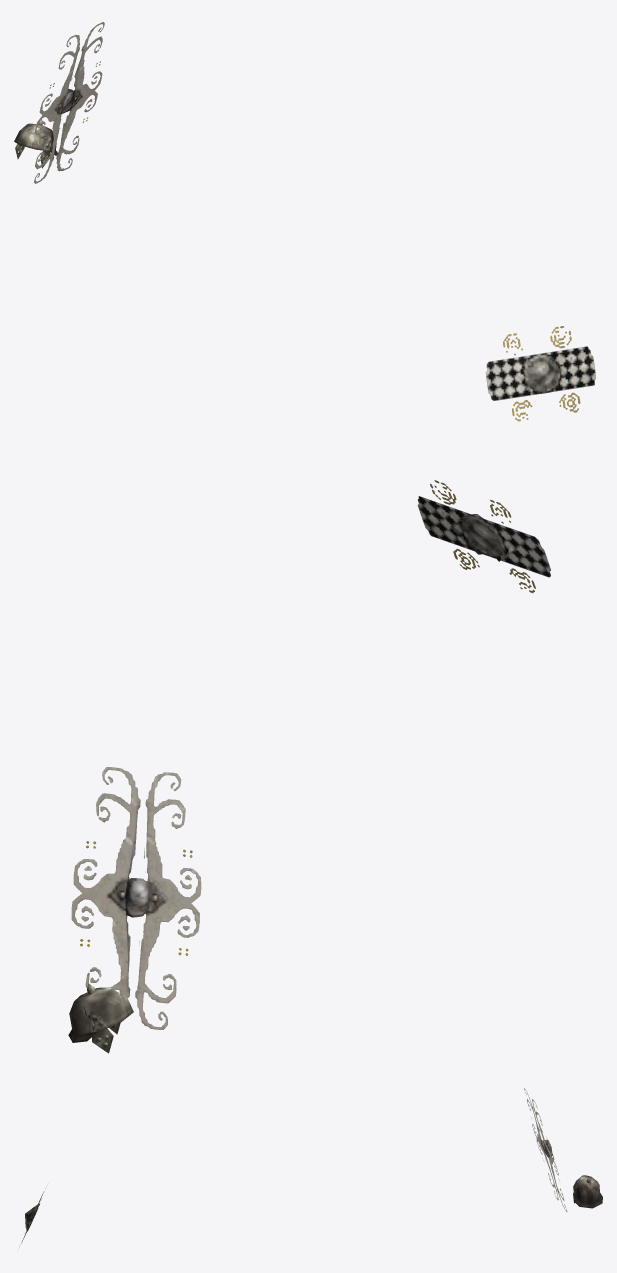
The model's file is celt_sb_shields.dae.
3 renders of one model, top to bottom at view 1: azimuth 30°, elevation 25°; view 2: azimuth 150°, elevation 25°; view 3: azimuth 270°, elevation 25°, orthographic. The views are drawn at different scales.
Visible parts, largest first — view 1: celt_helmet_9130-Pivot; view 2: celt_helmet_9130-Pivot; view 3: celt_helmet_9130-Pivot.
Part boxes in pixels (left/top/right/bottom): celt_helmet_9130-Pivot: left=14, top=22, right=595, bottom=421; celt_helmet_9130-Pivot: left=68, top=480, right=550, bottom=1053; celt_helmet_9130-Pivot: left=19, top=1088, right=602, bottom=1246.
Bounding box in the file's own units: 3.29 × 10.86 × 2.62.
